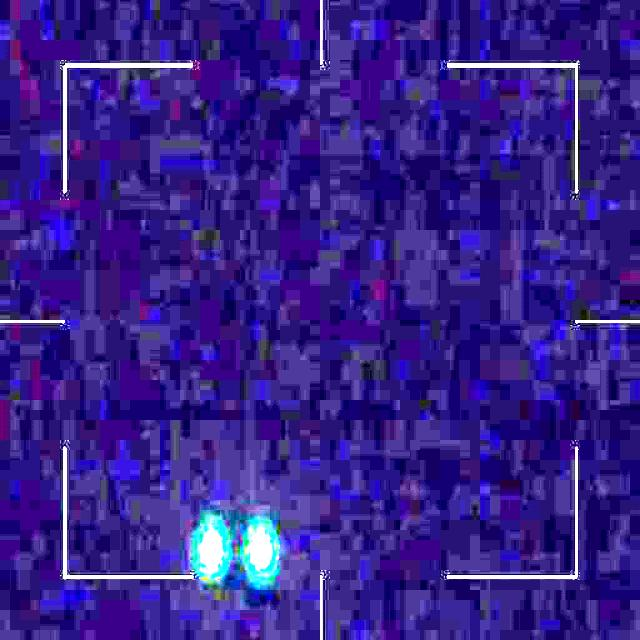bird: (196, 524, 275, 574)
